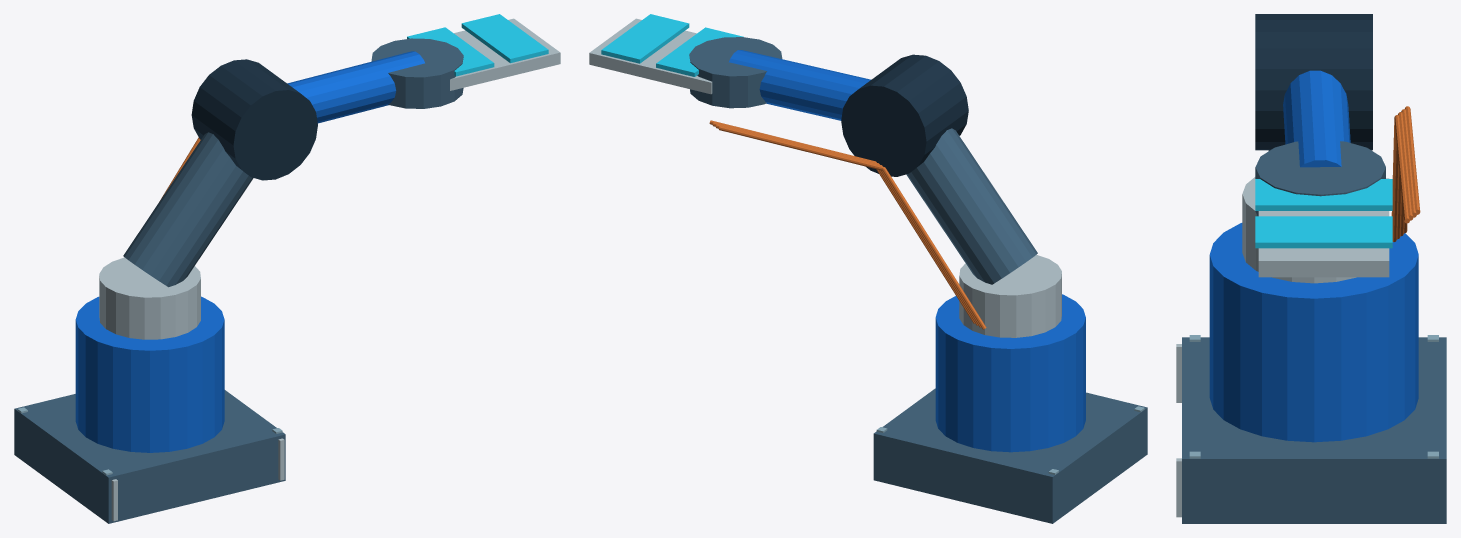
File: 12_L72_AutomatedWaferTransferRobot.fbx
3 renders of one model, left to right at view 1: azimuth 30°, elevation 25°; view 2: azimuth 150°, elevation 25°; view 3: azimuth 270°, elevation 25°, orthographic. The views are drawn at different scales.
Parts seen in each view (by area): view 1: AutomatedWaferTransferRobot; view 2: AutomatedWaferTransferRobot; view 3: AutomatedWaferTransferRobot.
Part boxes in pixels (<box>): AutomatedWaferTransferRobot: <box>14,14,560,523</box>; AutomatedWaferTransferRobot: <box>589,14,1147,523</box>; AutomatedWaferTransferRobot: <box>1176,14,1446,523</box>.
Size of the model in its own units: 238 by 174 by 82.69.
